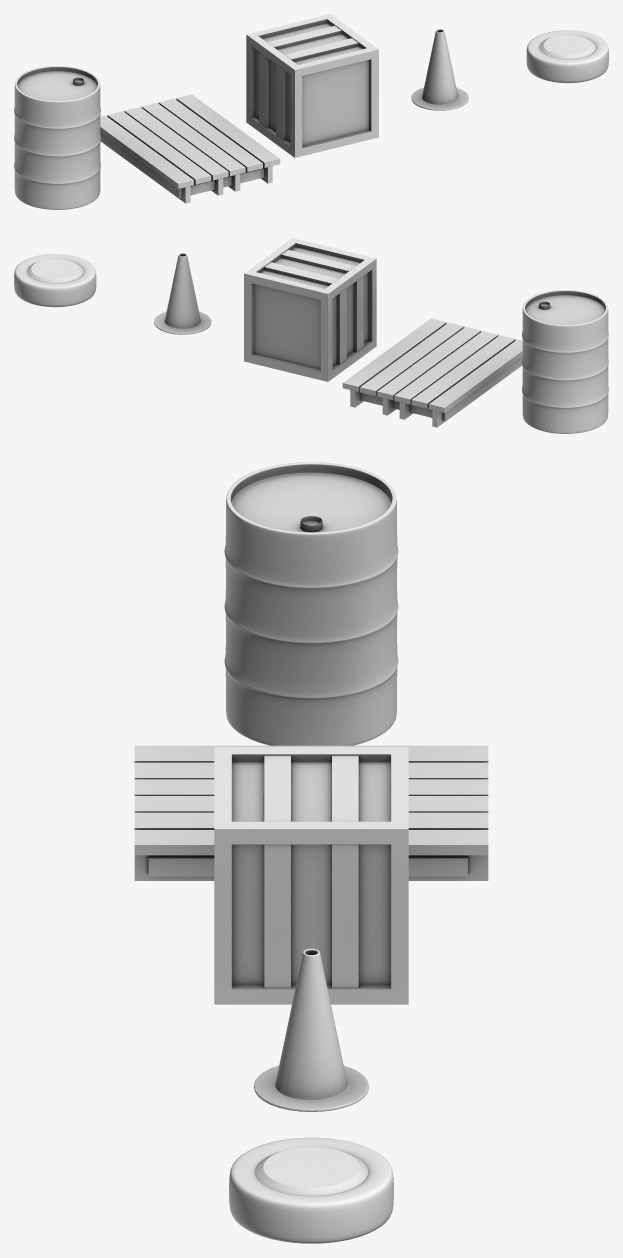
Rendered from TankProps.fbx.
3 views of the same model, one above another, from view 1: azimuth 30°, elevation 25°; view 2: azimuth 150°, elevation 25°; view 3: azimuth 270°, elevation 25° (orthographic). The views are drawn at different scales.
Visible parts, largest first — view 1: Crate, Oil Drum, Cube, Wheel, TrafficCone; view 2: Crate, Oil Drum, Cube, Wheel, TrafficCone; view 3: Crate, Oil Drum, Cube, Wheel, TrafficCone.
Part boxes in pixels (box(x1,y1,x2,y2)): Crate: box(246, 14, 378, 157); Oil Drum: box(14, 66, 100, 209); Cube: box(100, 94, 280, 203); Wheel: box(526, 30, 608, 83); TrafficCone: box(411, 29, 468, 110); Crate: box(244, 238, 376, 381); Oil Drum: box(522, 290, 608, 433); Cube: box(342, 318, 522, 427); Wheel: box(14, 254, 96, 307); TrafficCone: box(154, 253, 211, 334); Crate: box(214, 747, 408, 1004); Oil Drum: box(224, 462, 398, 745); Cube: box(134, 745, 488, 880); Wheel: box(229, 1137, 393, 1243); TrafficCone: box(253, 948, 369, 1111).
Bounding box in the file's own units: 458 × 81.69 × 120.
